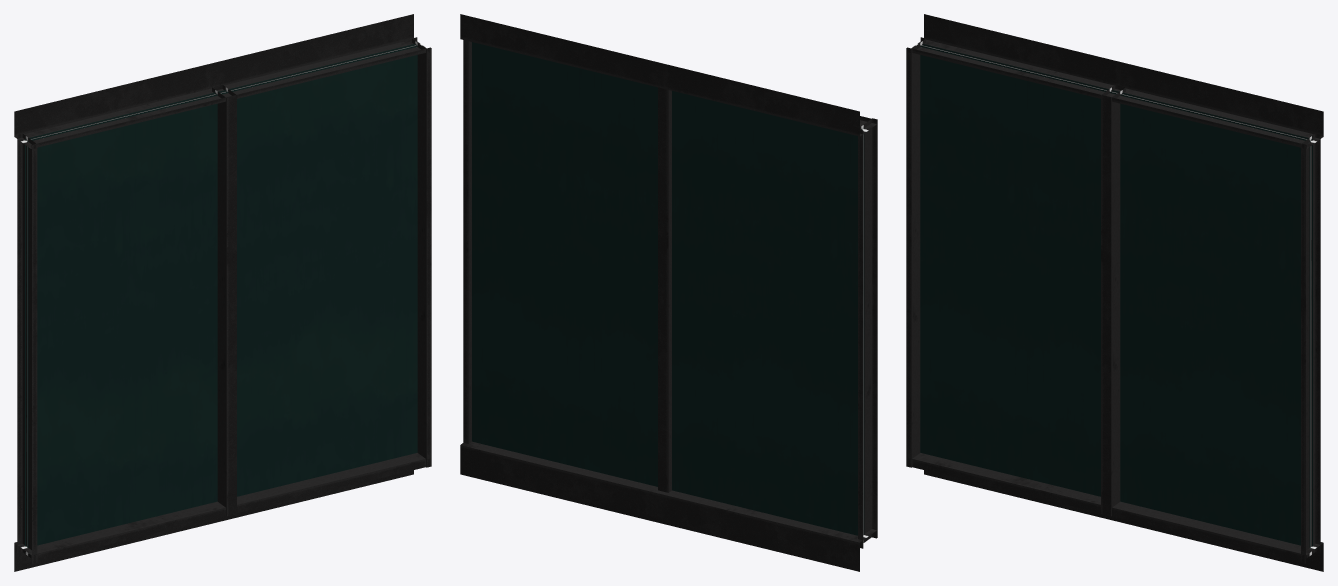
The model's file is Window_B.fbx.
3 views of the same model, side by side, from view 1: azimuth 30°, elevation 25°; view 2: azimuth 150°, elevation 25°; view 3: azimuth 330°, elevation 25° (orthographic).
Parts seen in each view (by area): view 1: Glass, Window_B; view 2: Glass, Window_B; view 3: Glass, Window_B.
Boxes of the visible parts, left/top/right/bottom form: Glass: left=25, top=44, right=417, bottom=547; Window_B: left=14, top=14, right=431, bottom=571; Glass: left=472, top=42, right=864, bottom=535; Window_B: left=460, top=14, right=877, bottom=571; Glass: left=920, top=44, right=1312, bottom=547; Window_B: left=906, top=14, right=1323, bottom=571.
Size of the model in its own units: 300 by 330 by 23.
